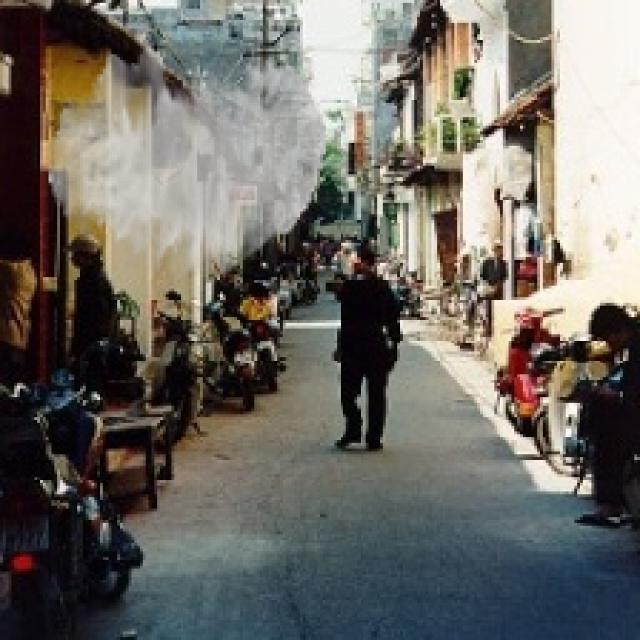Smoke: (48, 45, 326, 278)
